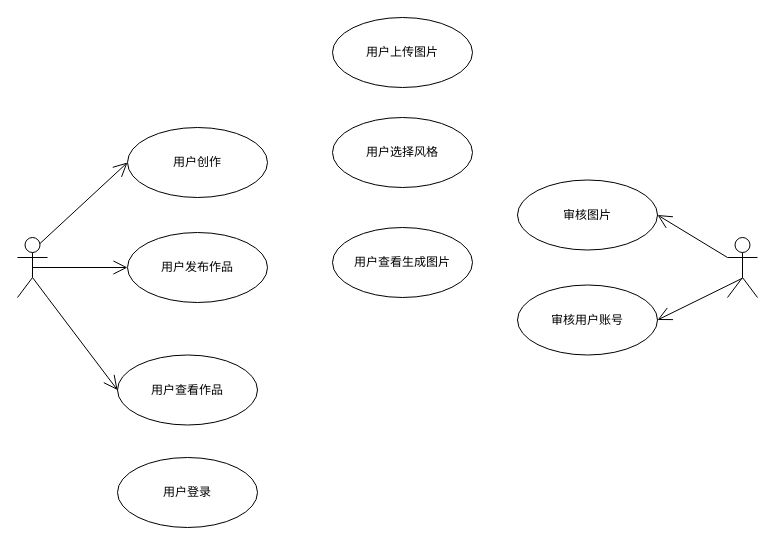
This 778x545 diagram has some shape labels left out. Here are the shapes that lost their labels. From the top down, the centre of each, then its label:
At point 32,267: "用户".
At point 742,267: "管理员".
